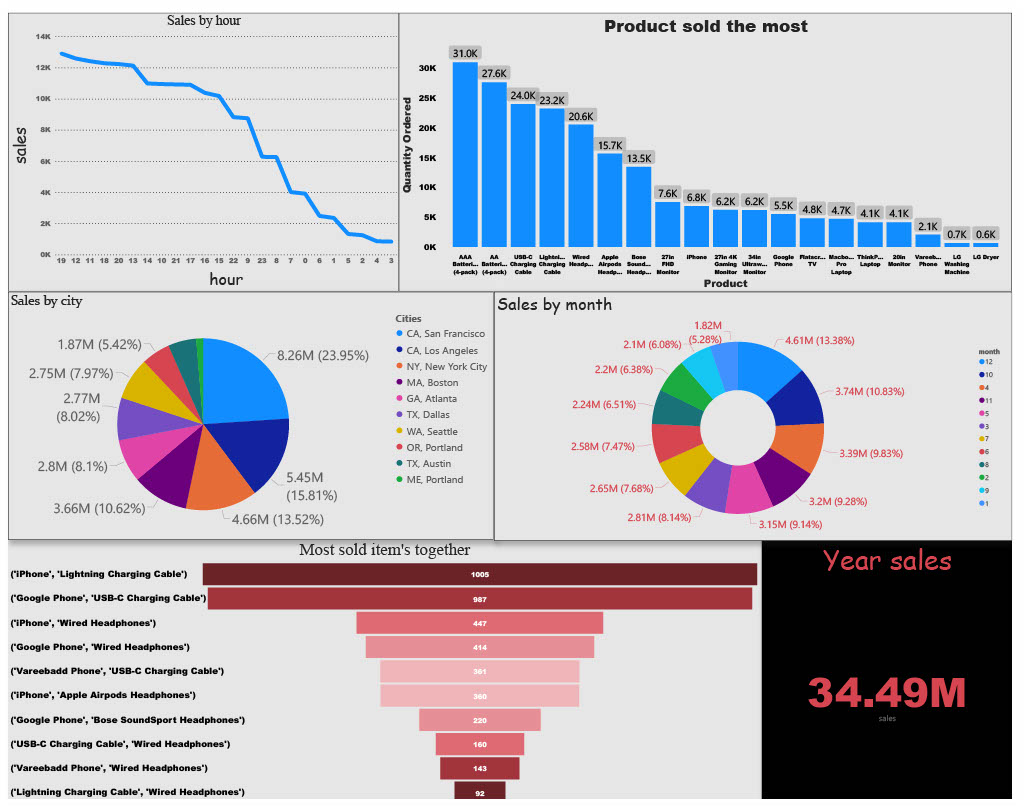

Layout of this report page (visuals, bound fields, positions):
{"tool":"powerbi","page":{"name":"final","canvas":[1980,1550],"ordinal":0},"visuals":[{"type":"funnel","title":"Most sold item''s together","fields":{"Category":["what products are most ofen sold togethe2.Column2"],"Y":["Sum(what products are most ofen sold togethe2.Column3)"]},"box":[0,1039.1,1486.6,530.5],"z":0},{"type":"lineChart","title":"Sales by hour","fields":{"Category":["What time should we display advertisemens.hour"],"Y":["Sum(What time should we display advertisemens.sales)"]},"box":[0,0,770.6,550.1],"z":1000},{"type":"clusteredColumnChart","title":"Product sold the most","fields":{"Category":["what product sold the most and why do you think it sold the most.Product"],"Y":["Sum(what product sold the most and why do you think it sold the most.Quantity Ordered)"]},"box":[770.6,0,1209.4,550.1],"z":2000},{"type":"pieChart","title":"Sales by city","fields":{"Category":["What city sold the most product.city and state"],"Y":["Sum(What city sold the most product.sales)"]},"box":[0,550.1,958.3,489],"z":3000},{"type":"card","title":"Year sales","fields":{"Values":["Sum(what is the best month of sales and how much.sales)"]},"box":[1486.6,1039.1,493.4,530.5],"z":4000},{"type":"donutChart","title":"Sales by month","fields":{"Y":["Sum(what is the best month of sales and how much.sales)"],"Series":["what is the best month of sales and how much.month"]},"box":[958.3,550.1,1021.7,491.2],"z":5000}]}

Visuals, with their boxes in screenshot pixels (x1, y1, x2, y2), scaled from the page's 1980x1550 canvas onto the 1024x812 screenshot:
"Most sold item''s together" funnel: <box>0,544,769,811</box>
"Sales by hour" lineChart: <box>0,0,399,288</box>
"Product sold the most" clusteredColumnChart: <box>399,0,1023,288</box>
"Sales by city" pieChart: <box>0,288,496,544</box>
"Year sales" card: <box>769,544,1023,811</box>
"Sales by month" donutChart: <box>496,288,1023,546</box>
